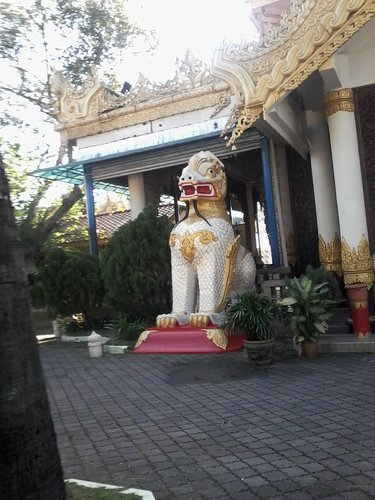Buddhist Temple: (66, 34, 287, 333)
